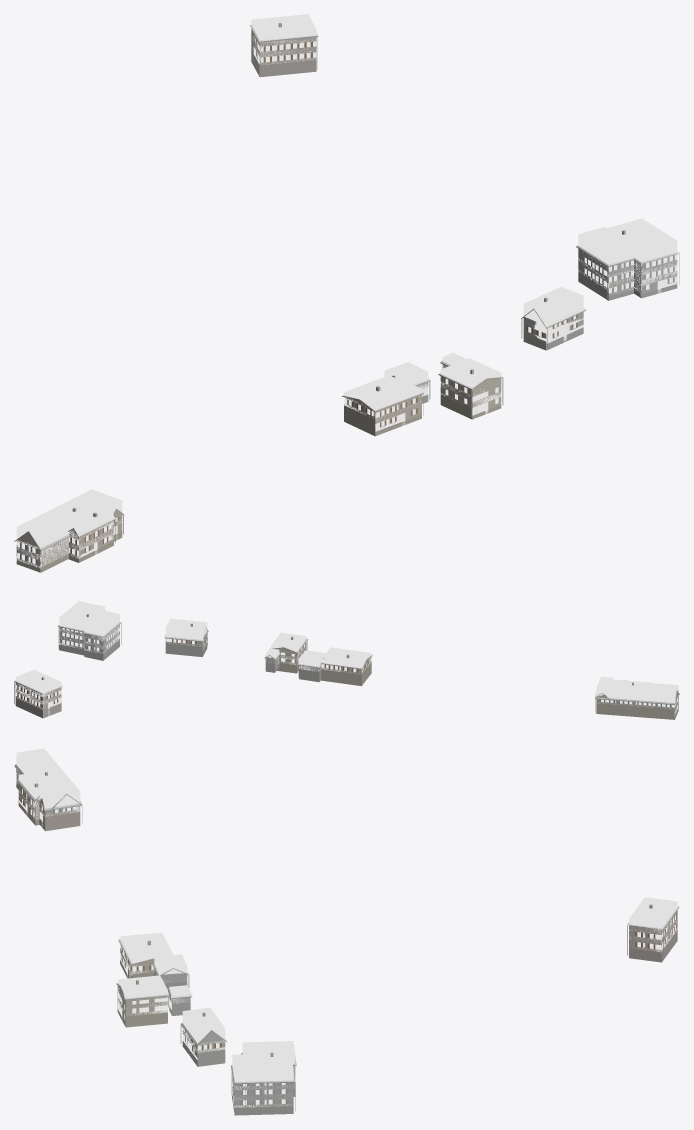
The picture shows the model from 3 angles, top to bottom: view 1: azimuth 30°, elevation 25°; view 2: azimuth 150°, elevation 25°; view 3: azimuth 270°, elevation 25°; orthographic projection. The views are drawn at different scales.
Parts seen in each view (by area): view 1: col, bld; view 2: col, bld; view 3: col, bld.
Boxes of the visible parts, x1,y1,x2,y2 form: col: [16, 14, 677, 571]; bld: [14, 23, 679, 572]; col: [15, 601, 678, 716]; bld: [14, 614, 679, 719]; col: [16, 748, 677, 1107]; bld: [14, 764, 679, 1115].
Size of the model in its own units: 203 by 41.04 by 165.
